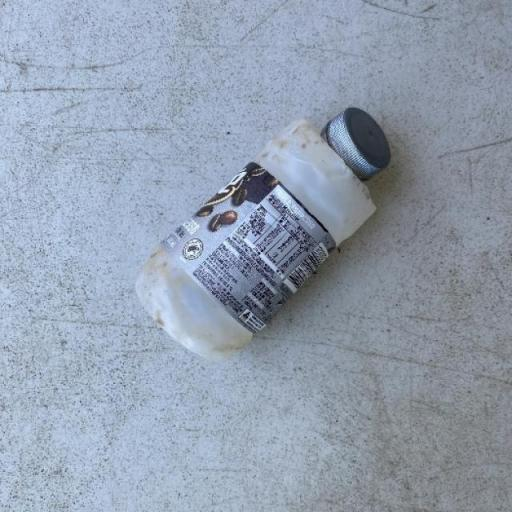plastic: (134, 104, 391, 362)
